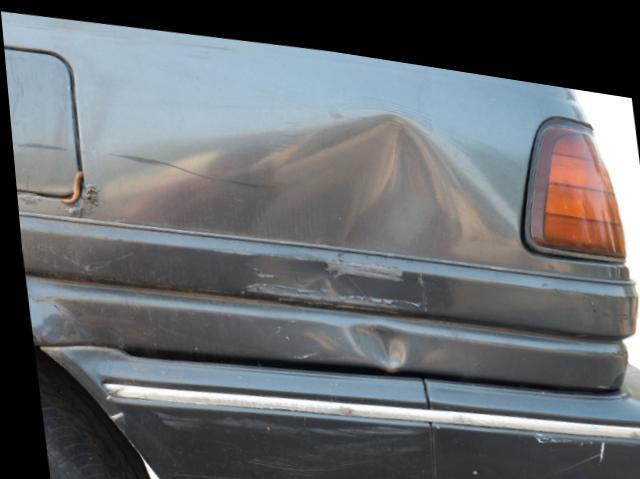dent: (105, 104, 520, 249), (342, 311, 402, 357)
